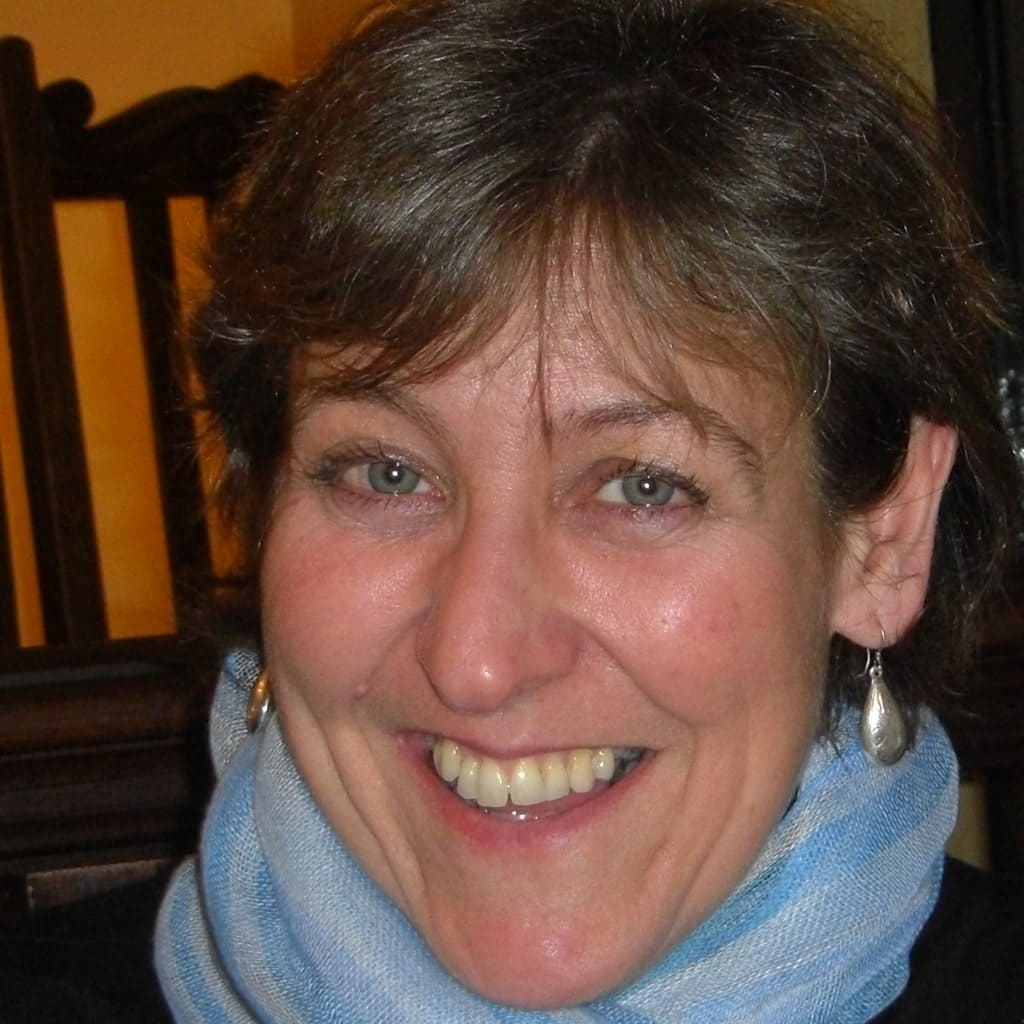without_mask: (283, 174, 825, 988)
